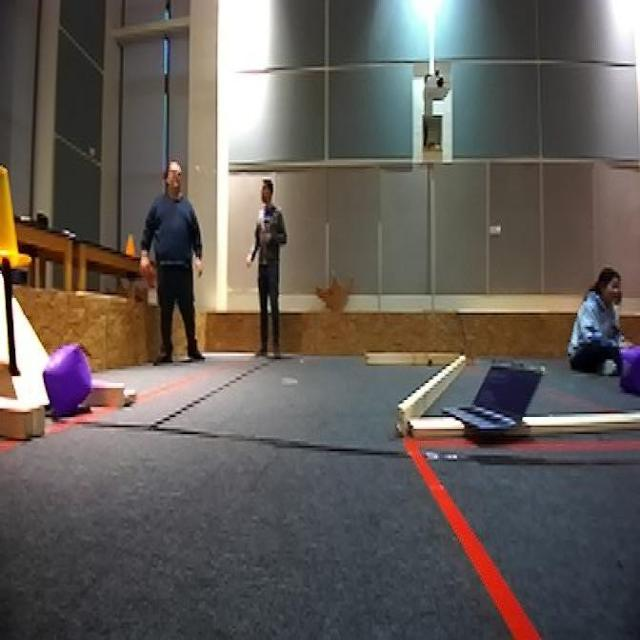frc_cone: (0, 165, 33, 267)
frc_cube: (42, 340, 94, 417), (617, 342, 640, 400)
